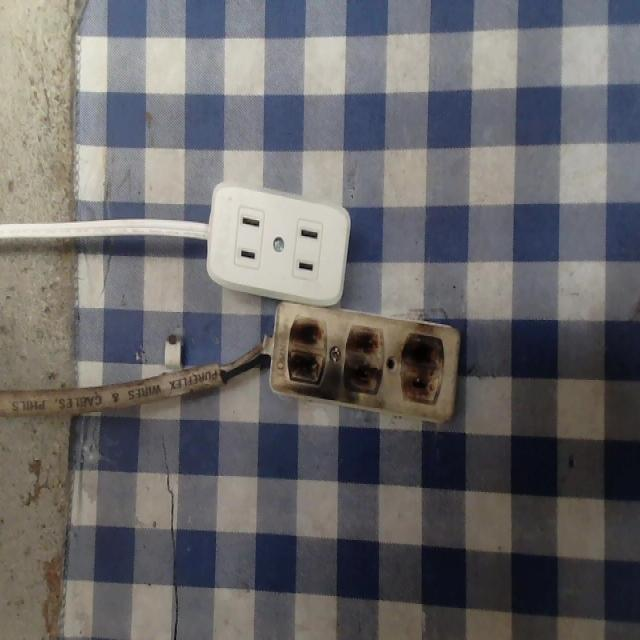-: (342, 317, 392, 403), (396, 329, 444, 415), (283, 309, 331, 391)
